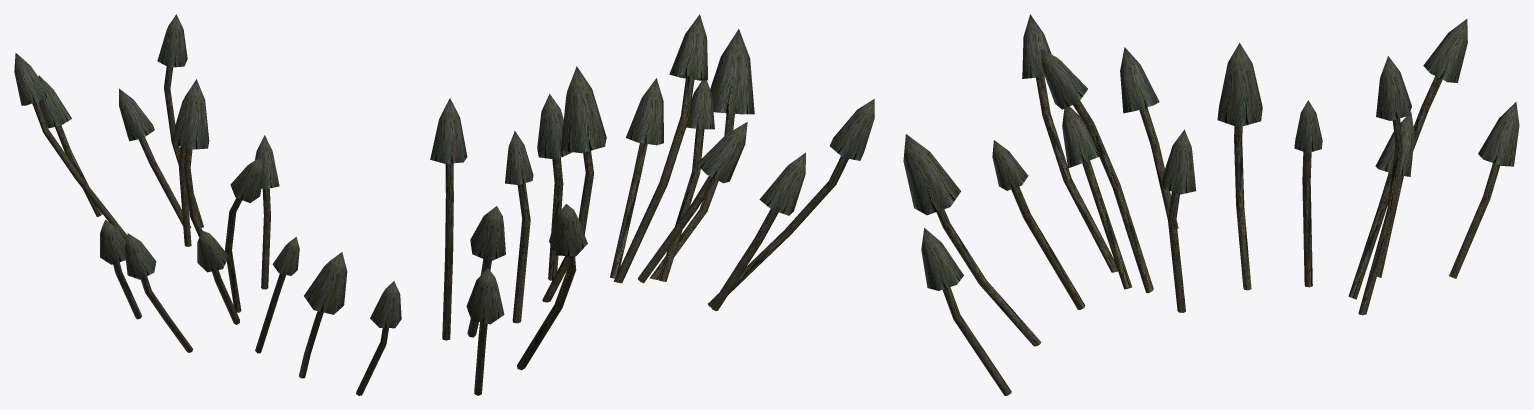
Rendered from OW_MUSHROOM_V2.glb.
3 views of the same model, side by side, from view 1: azimuth 30°, elevation 25°; view 2: azimuth 150°, elevation 25°; view 3: azimuth 270°, elevation 25° (orthographic). The views are drawn at different scales.
Visible parts, largest first — view 1: Mesh; view 2: Mesh; view 3: Mesh.
Boxes of the visible parts, box(x1,y1,x2,y2) form: Mesh: box(14, 14, 401, 395); Mesh: box(430, 14, 874, 395); Mesh: box(903, 14, 1519, 395).
Bounding box in the file's own units: 1.98 × 2.16 × 3.72.
2 materials, 2 textured.
